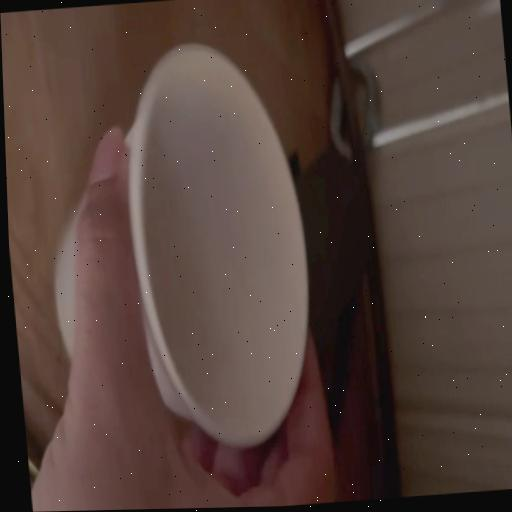Ly_giay: (125, 45, 307, 447), (125, 46, 307, 443), (55, 214, 77, 356)
